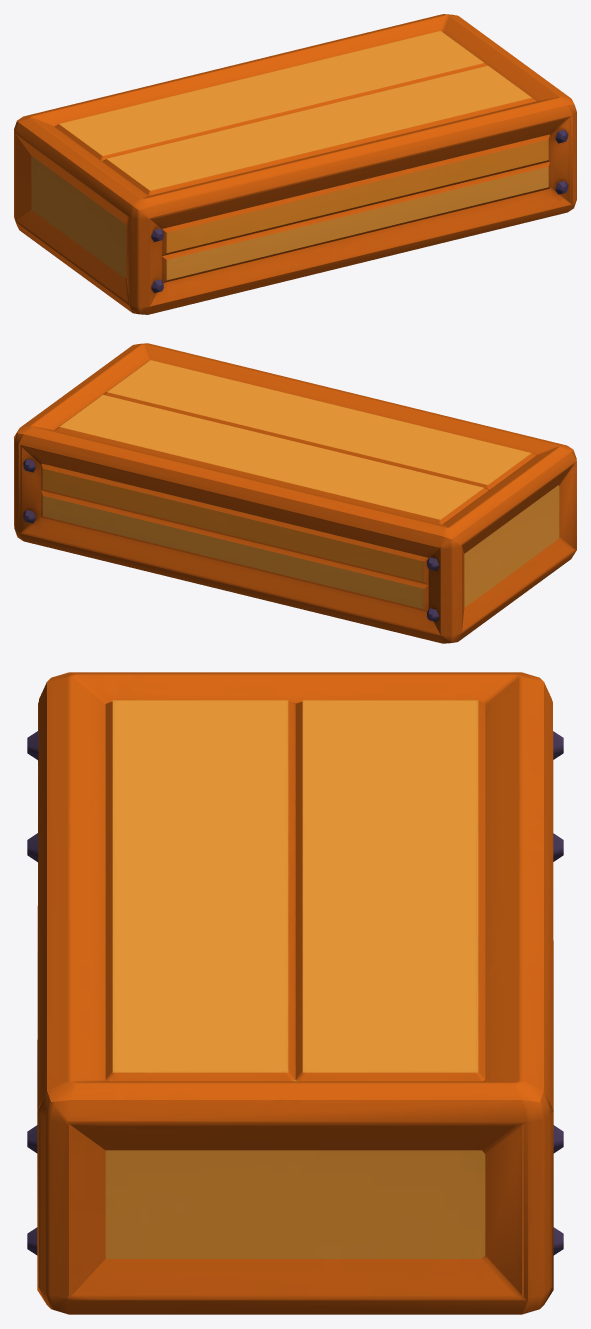
Rendered from kalas2.glb.
The picture shows the model from 3 angles, top to bottom: view 1: azimuth 30°, elevation 25°; view 2: azimuth 150°, elevation 25°; view 3: azimuth 270°, elevation 25°; orthographic projection. The views are drawn at different scales.
Visible parts, largest first — view 1: kalas2; view 2: kalas2; view 3: kalas2.
Part boxes in pixels (x1,y1,x2,y2): kalas2: (14,14,576,314); kalas2: (14,343,576,643); kalas2: (27,672,563,1314).
Size of the model in its own units: 3.07 by 0.7537 by 1.6.
Materials: 1 (1 with a texture image).
